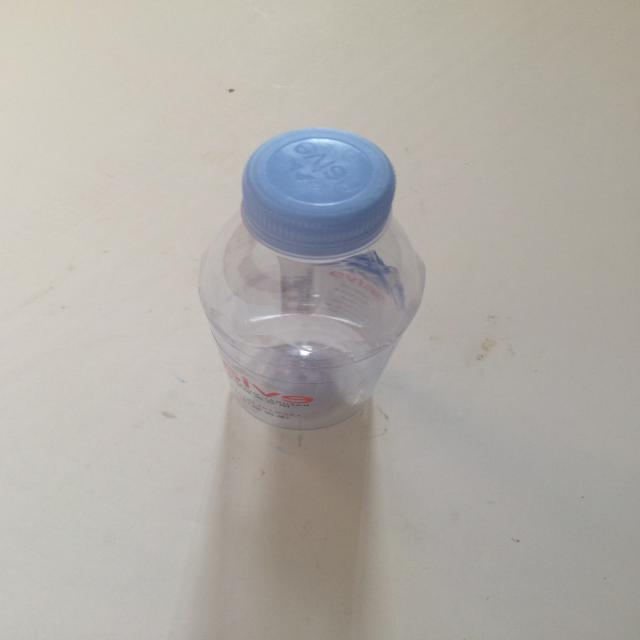plastic: (198, 127, 428, 430)
